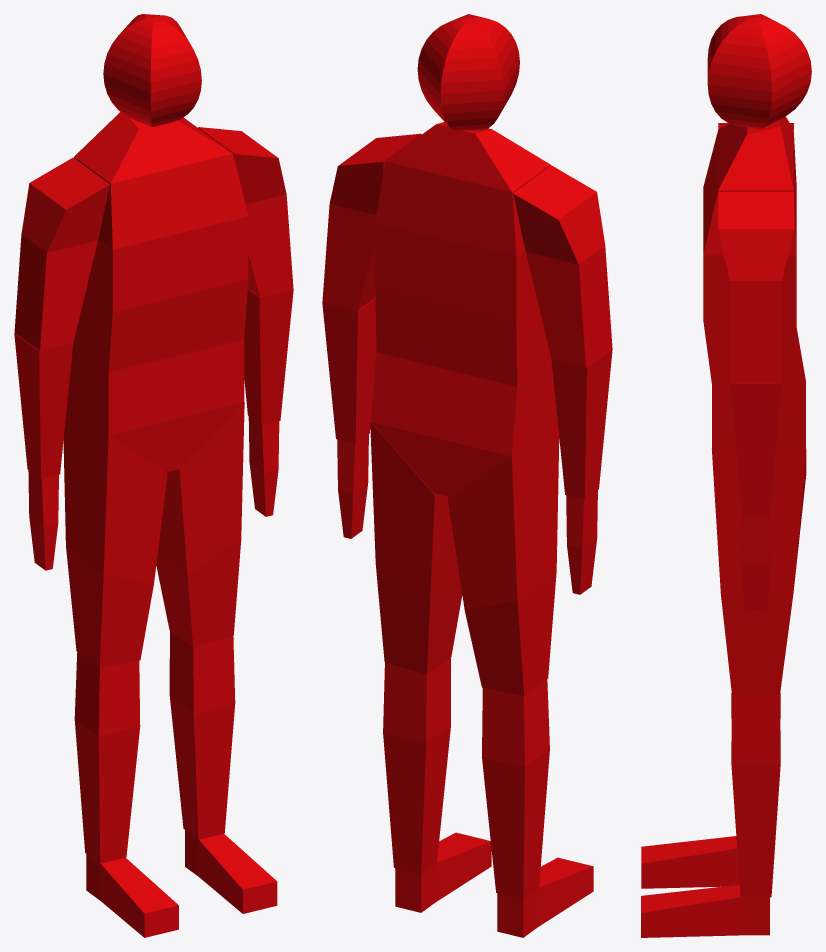
The model's file is player_red_old.fbx.
3 renders of one model, left to right at view 1: azimuth 30°, elevation 25°; view 2: azimuth 150°, elevation 25°; view 3: azimuth 270°, elevation 25°, orthographic. The views are drawn at different scales.
Visible parts, largest first — view 1: body, upper_right_leg, upper_left_leg, upper_right_arm, lower_right_leg, lower_left_leg, head, upper_left_arm, lower_right_arm, lower_left_arm, right_foot, left_foot (+2 smaller); view 2: body, upper_right_leg, upper_left_leg, upper_right_arm, lower_right_leg, lower_left_leg, head, upper_left_arm, lower_right_arm, lower_left_arm, right_foot, left_foot (+2 smaller); view 3: body, upper_left_leg, upper_left_arm, head, lower_left_leg, left_foot, lower_left_arm, right_foot, left_hand.
Part boxes in pixels (box(x1,y1,x2,y2)): body: box(67, 112, 248, 471); upper_right_leg: box(63, 404, 167, 667); upper_left_leg: box(156, 402, 244, 647); upper_right_arm: box(14, 157, 109, 351); lower_right_leg: box(74, 652, 140, 863); lower_left_leg: box(169, 630, 235, 839); head: box(103, 14, 201, 127); upper_left_arm: box(198, 127, 293, 297); lower_right_arm: box(14, 333, 73, 478); lower_left_arm: box(244, 289, 293, 425); right_foot: box(86, 854, 178, 937); left_foot: box(185, 830, 277, 913); body: box(371, 122, 557, 496); upper_right_leg: box(447, 422, 559, 695); upper_left_leg: box(370, 421, 462, 674); upper_right_arm: box(513, 165, 612, 366); lower_right_leg: box(482, 679, 549, 899); lower_left_leg: box(383, 657, 450, 874); head: box(417, 14, 519, 130); upper_left_arm: box(322, 133, 421, 310); lower_right_arm: box(551, 348, 612, 499); lower_left_arm: box(322, 297, 376, 443); right_foot: box(497, 857, 593, 937); left_foot: box(395, 832, 491, 912); body: box(703, 116, 805, 448); upper_left_leg: box(712, 448, 806, 694); upper_left_arm: box(718, 192, 793, 383); head: box(707, 14, 811, 128); lower_left_leg: box(731, 694, 780, 897); left_foot: box(641, 884, 769, 937); lower_left_arm: box(730, 383, 781, 516); right_foot: box(641, 836, 739, 888); left_hand: box(741, 517, 770, 610).
Size of the model in its own units: 120 by 390 by 68.16.
